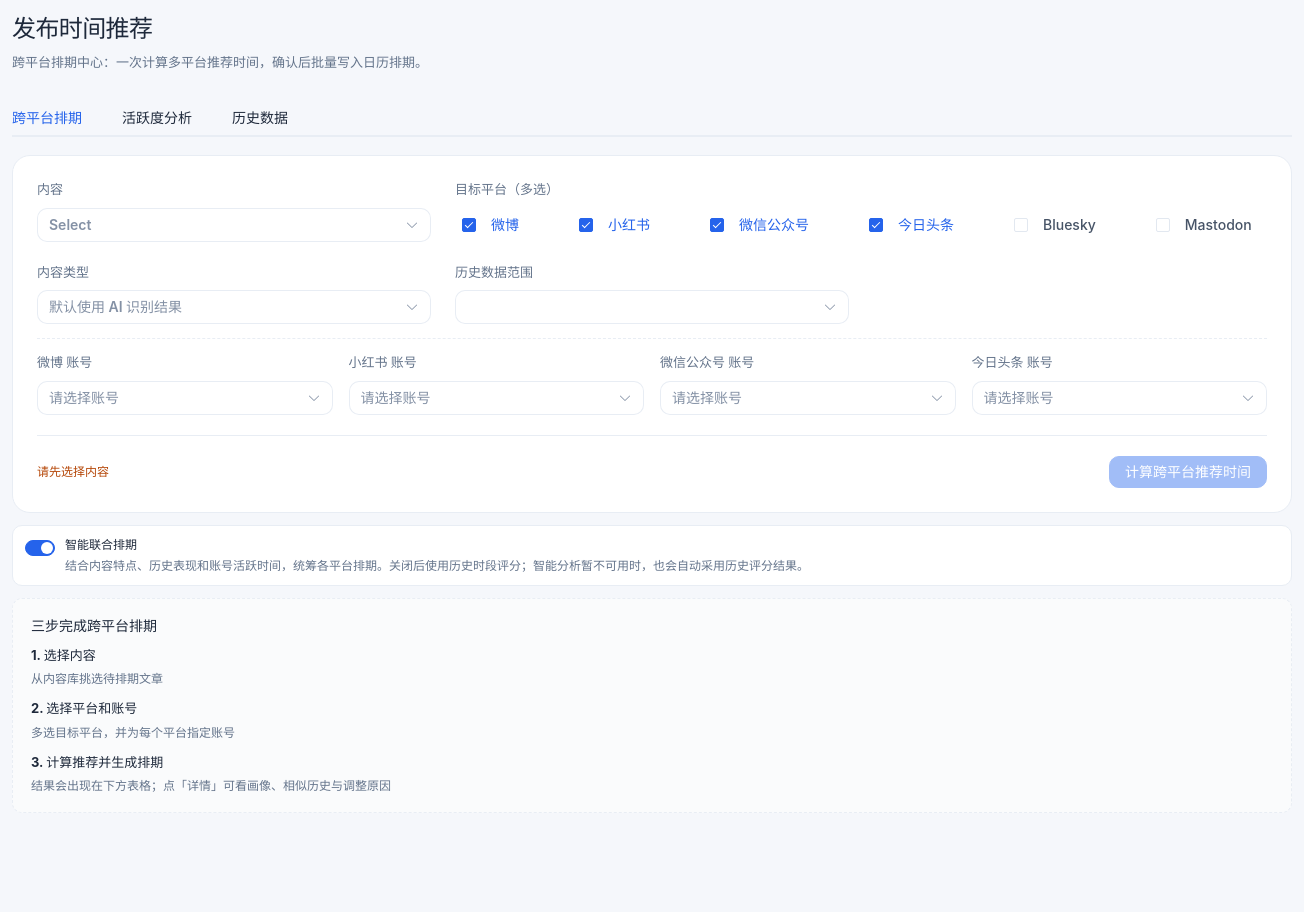
Test: history import source choices before the first upload › offers supported research and YouTube types when fields metadata is unavailable
Click the tab "历史数据" at (260, 117), box [232,108,288,126]
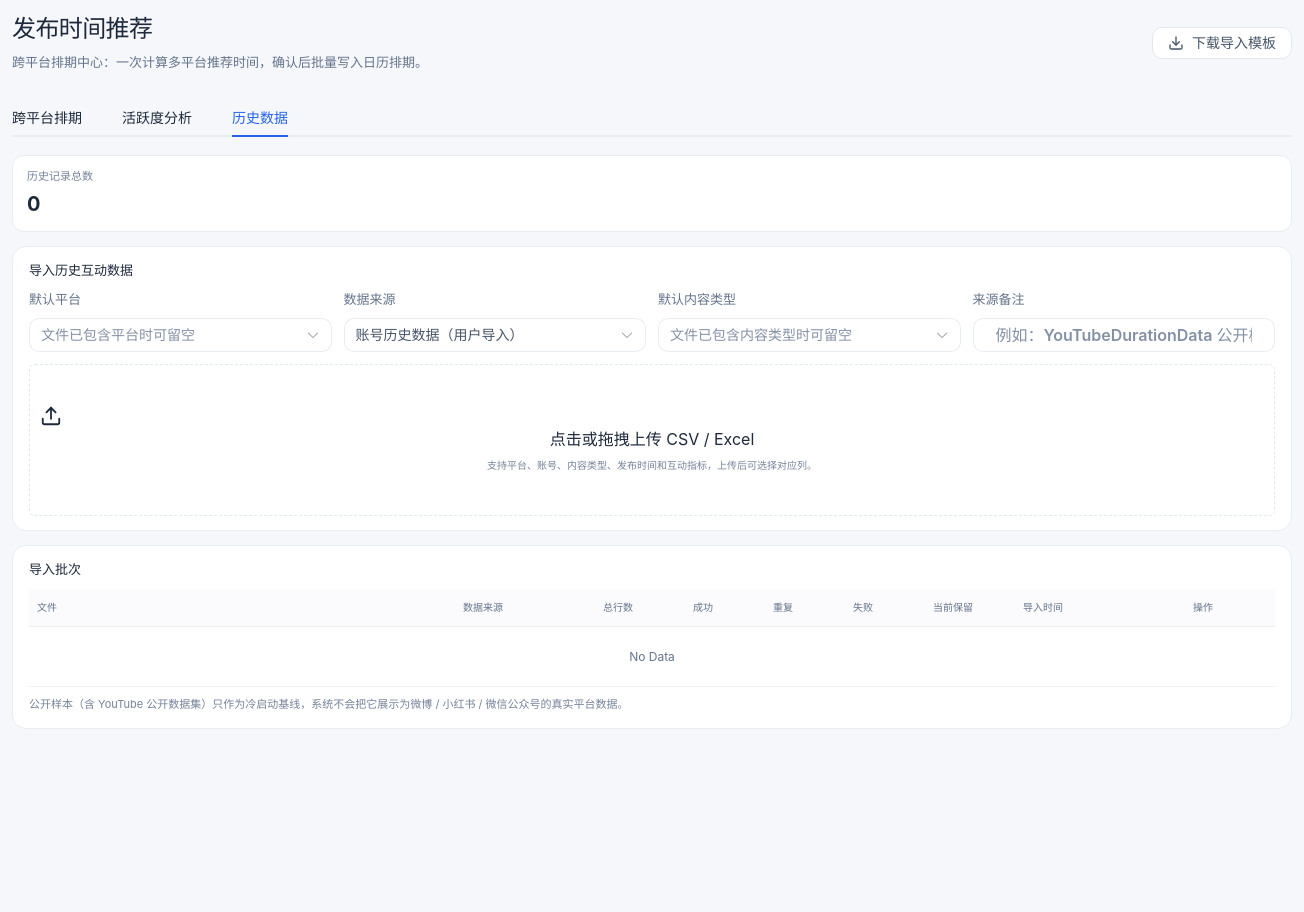
Click the element with test id "history-import-source" at (495, 334), box [344,318,646,352]
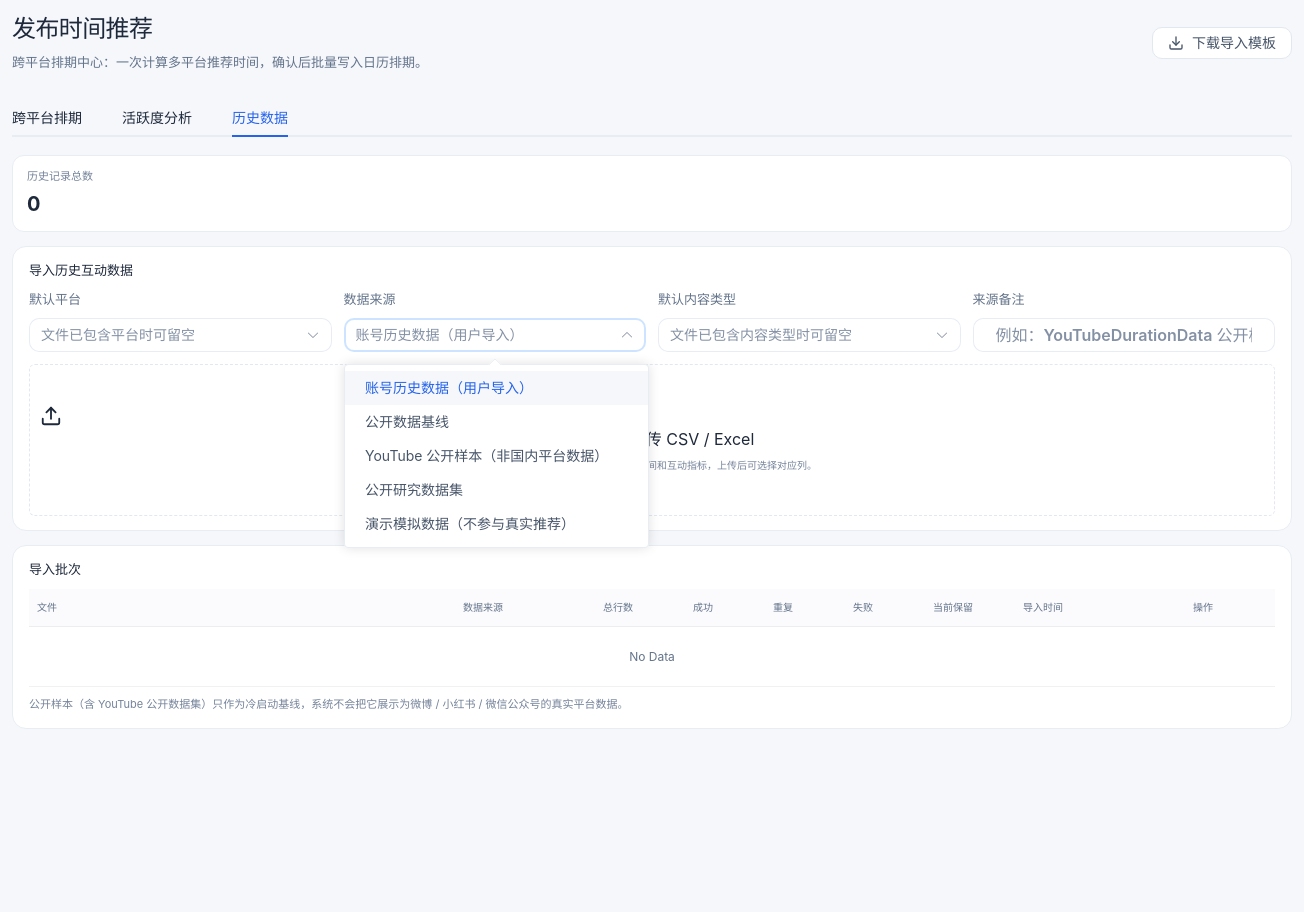
Now the option "公开研究数据集" is shown, box [365,481,463,498]
Now the option "YouTube 公开样本（非国内平台数据）" is shown, box [365,447,608,464]
